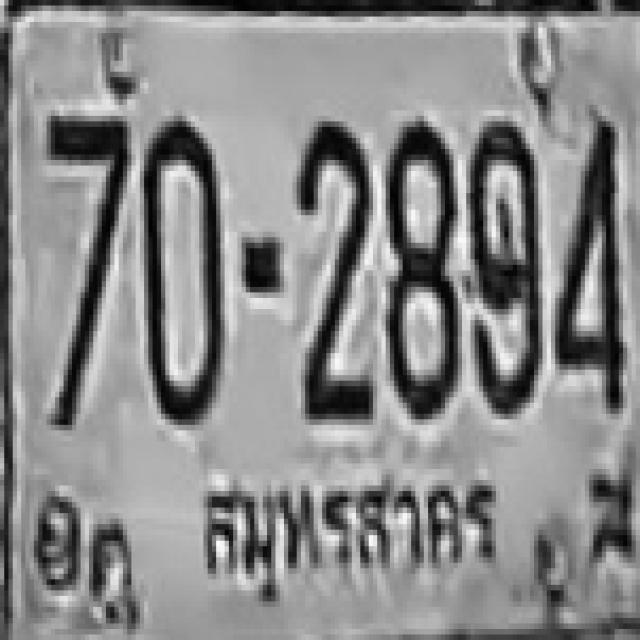0: (140, 116, 220, 419)
2: (294, 119, 371, 384), (292, 118, 369, 362), (299, 188, 371, 414)
4: (551, 110, 623, 408)
7: (44, 110, 130, 331), (42, 110, 128, 298)
8: (381, 118, 458, 416)
9: (466, 119, 538, 411)
SamutSakhon: (188, 467, 519, 609)
